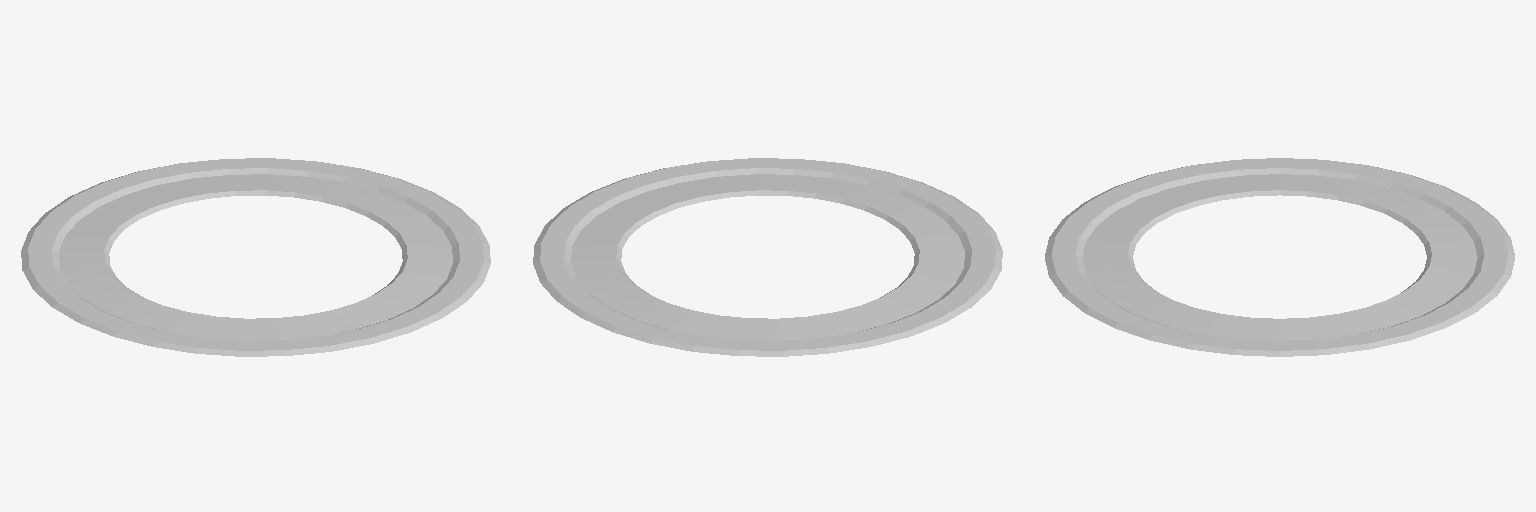
The model's file is CenterCircle.obj.
3 renders of one model, left to right at view 1: azimuth 30°, elevation 25°; view 2: azimuth 150°, elevation 25°; view 3: azimuth 270°, elevation 25°, orthographic.
Visible parts, largest first — view 1: Circle; view 2: Circle; view 3: Circle.
Boxes of the visible parts, <box> form: Circle: <box>21,158,490,356</box>; Circle: <box>533,158,1002,356</box>; Circle: <box>1045,158,1514,356</box>.
Bounding box in the file's own units: 4.18 × 0.0306 × 4.18.